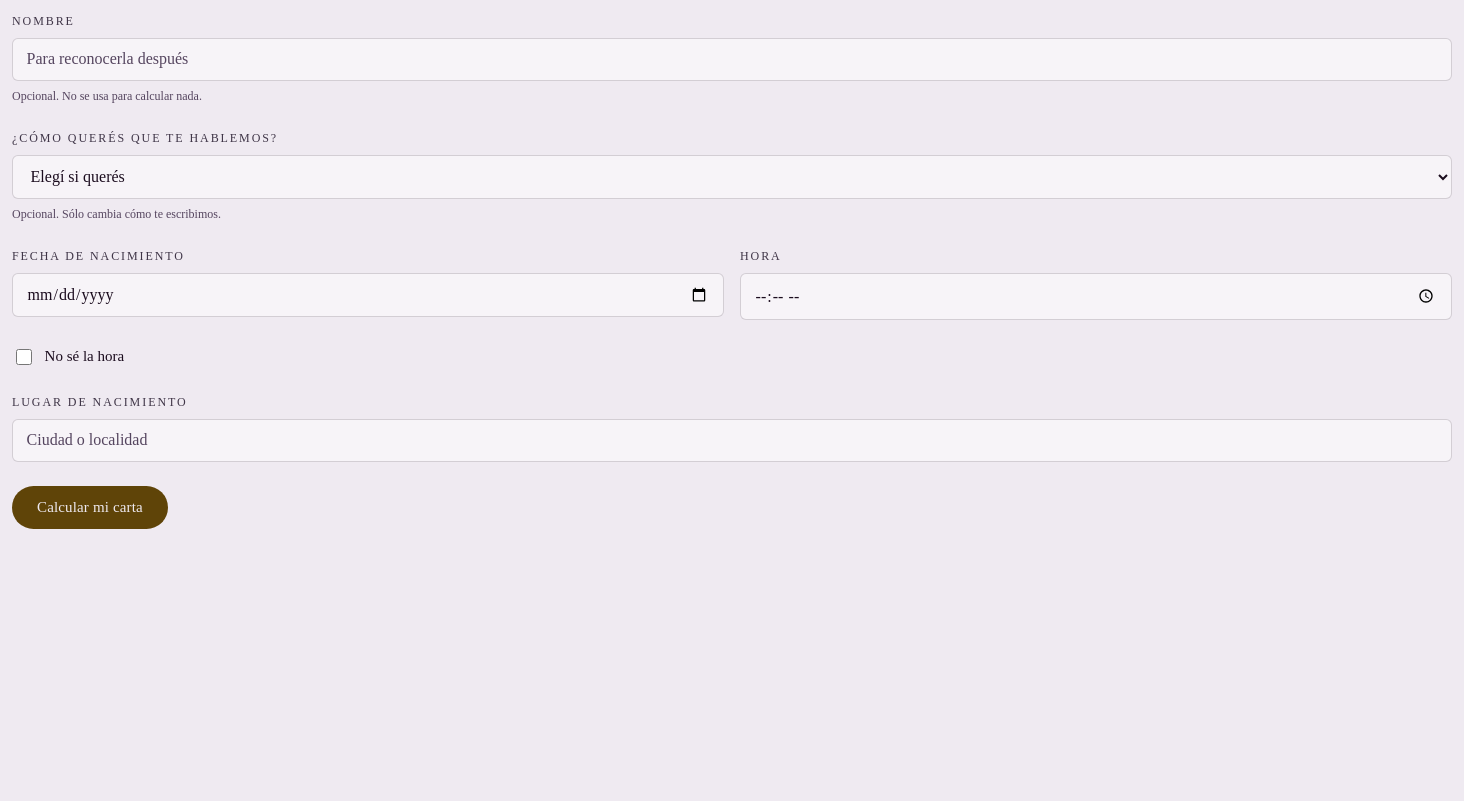
Scenario: comprar sin cuenta desde la vista previa › sin precio del catálogo el botón de pago sigue, sin precio
Type "1976-05-31" into the date field labelled "Fecha de nacimiento" at (368, 295), box [12,273,724,318]
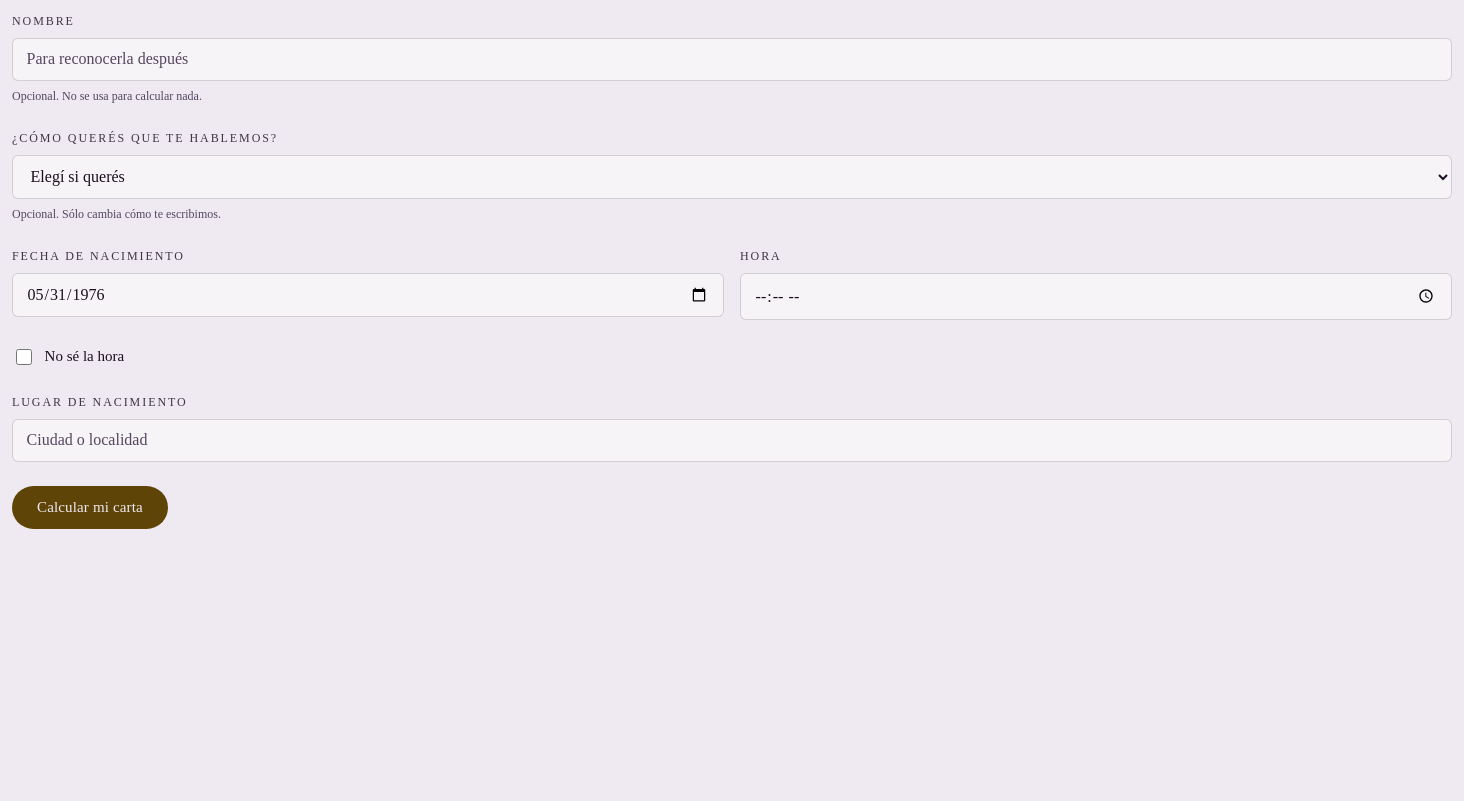
Type "rosario" into the field labelled "Lugar de nacimiento" at (732, 440), box [12,419,1452,462]
Wait 400 ms
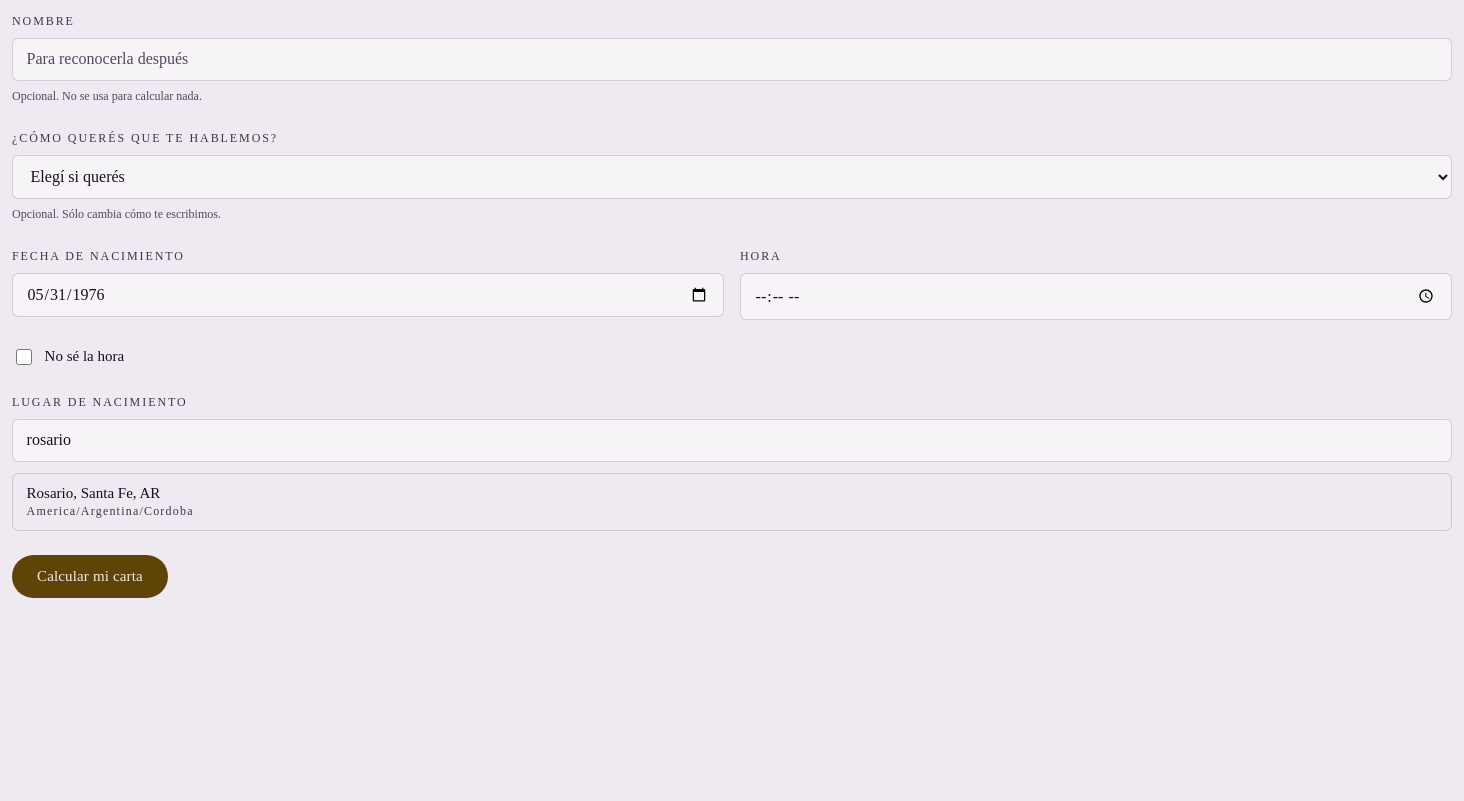
Click the button "Rosario, Santa Fe, AR America/Argentina/Cordoba" at (93, 493), box [13,474,1451,530]
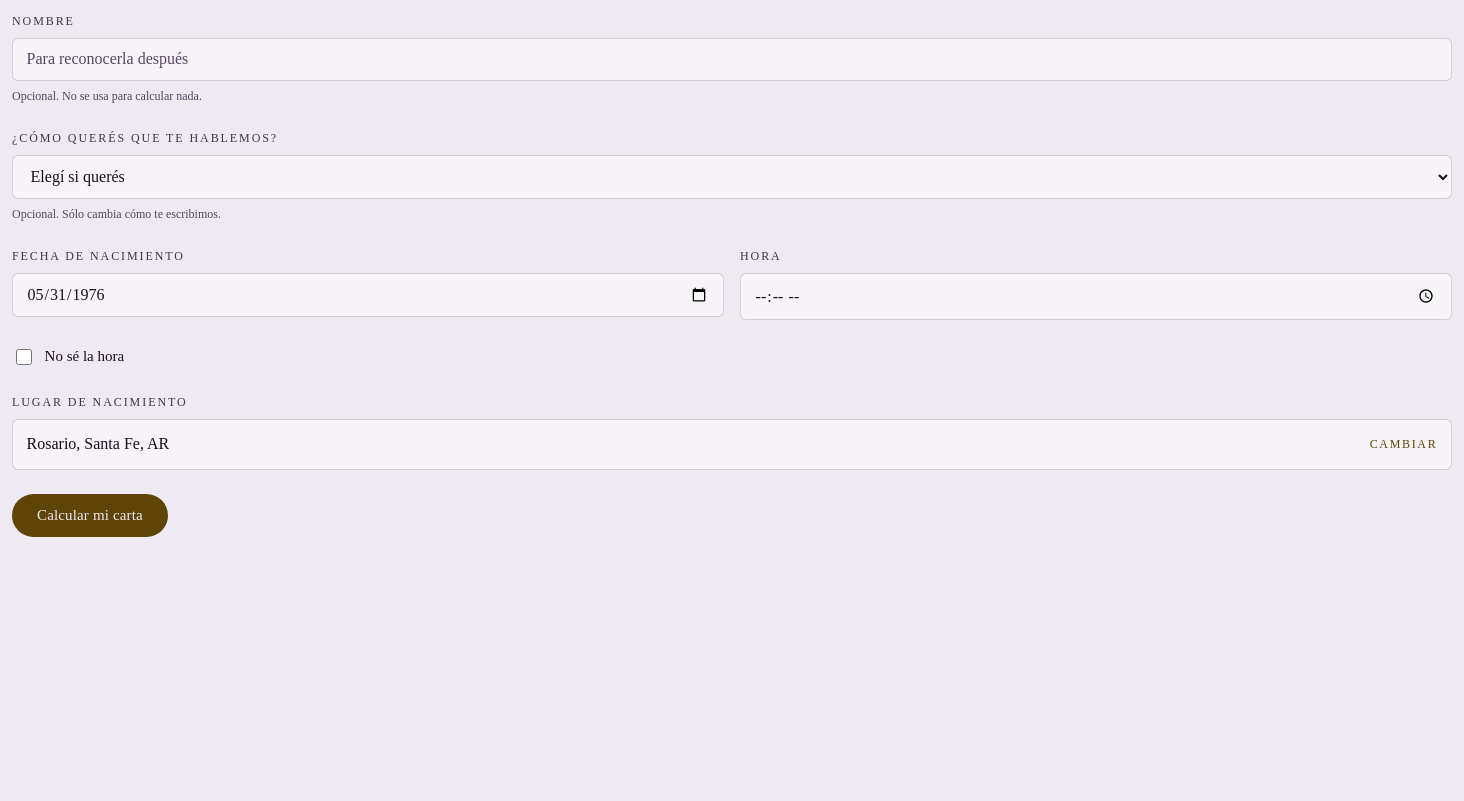
Click the button "Calcular mi carta" at (90, 516), box [12,494,168,537]
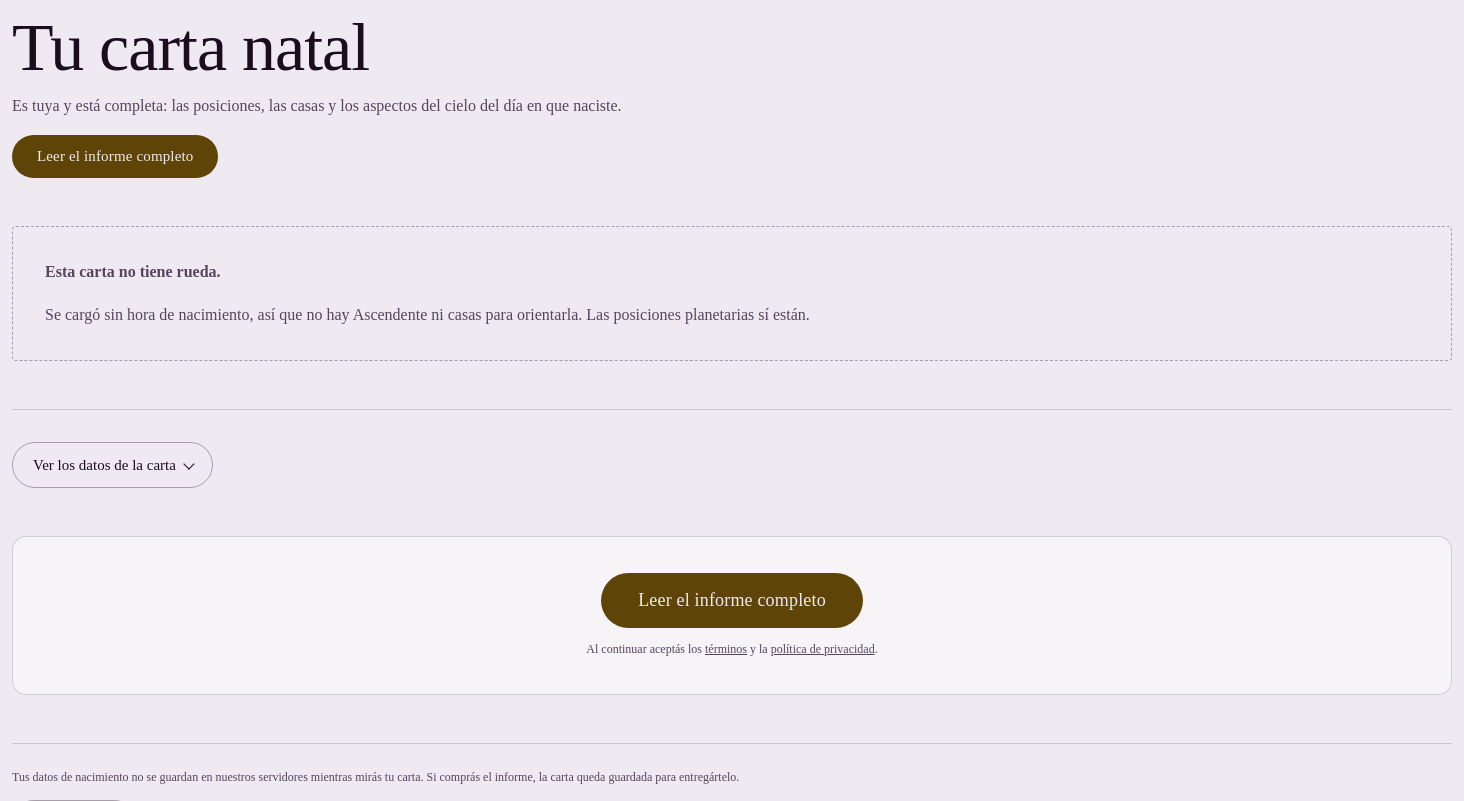
Now the number of buttons "Leer el informe completo" is 2, box [12,135,218,178]; [601,573,863,628]
